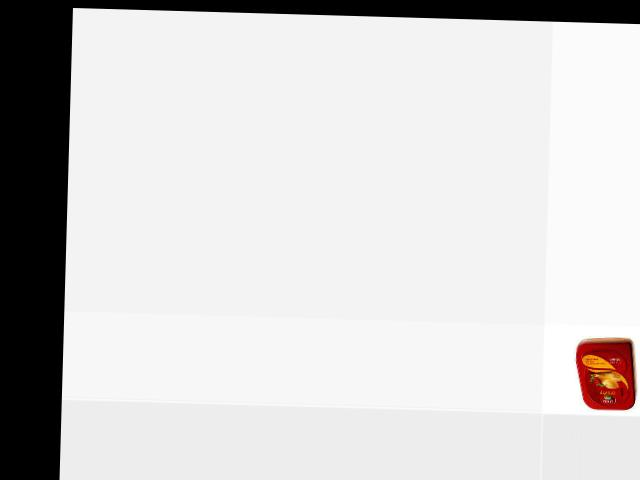cheese: (574, 336, 639, 414)
